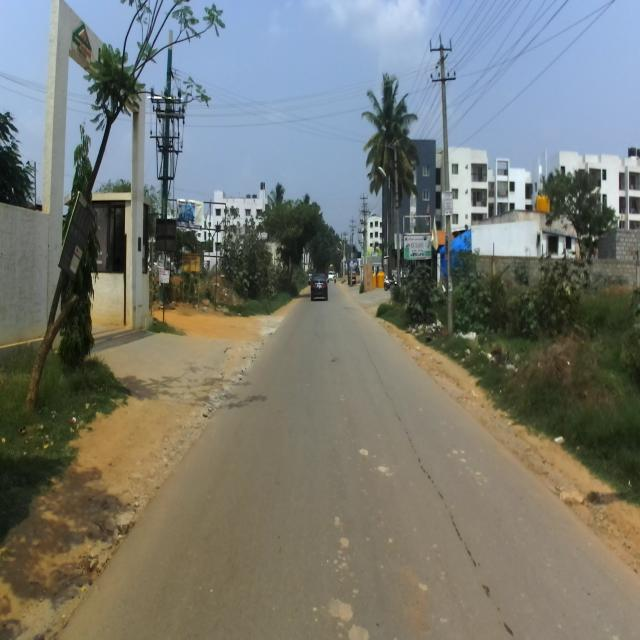electric pole ahead at: (425, 26, 480, 342)
